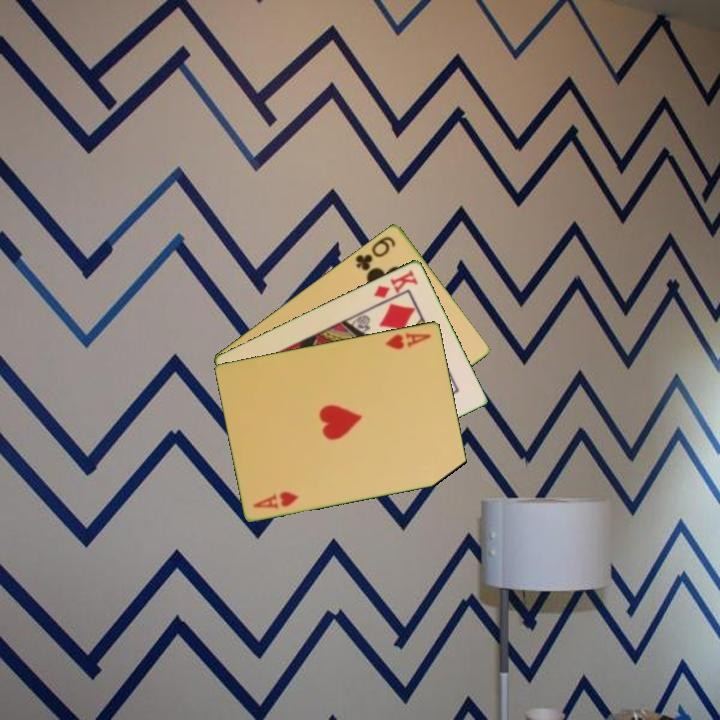6c: (352, 232, 398, 273)
Ah: (382, 328, 434, 352), (250, 488, 302, 512)
Kd: (370, 266, 421, 301)
